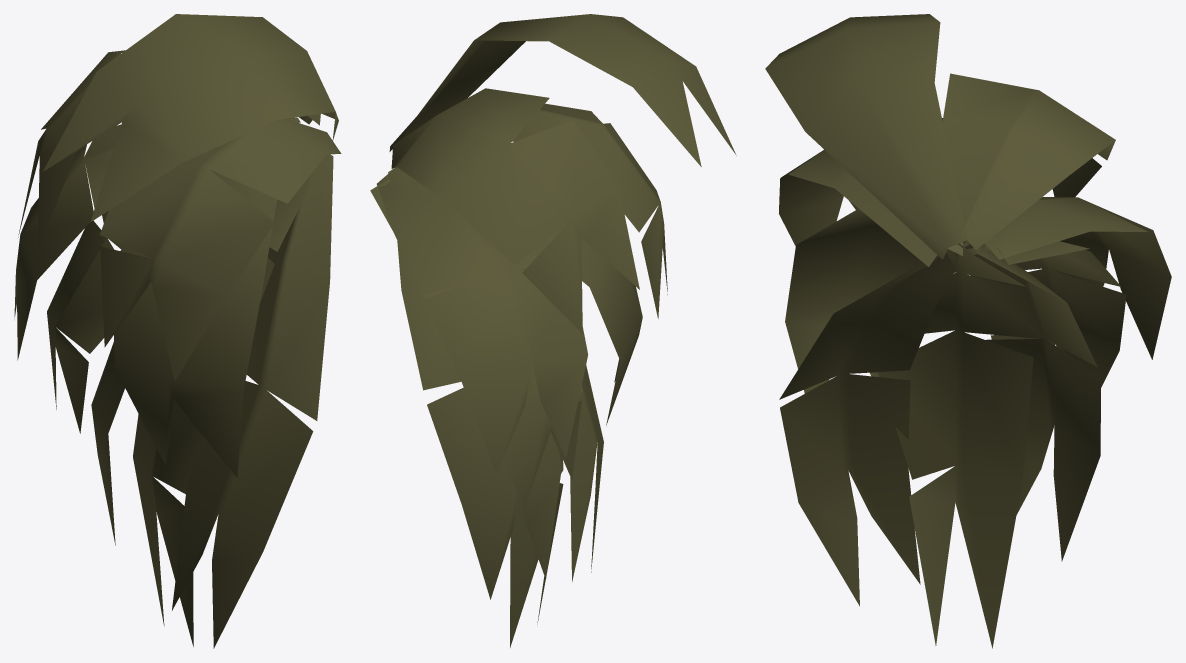
The model's file is foliage_broad_003.fbx.
3 views of the same model, side by side, from view 1: azimuth 30°, elevation 25°; view 2: azimuth 150°, elevation 25°; view 3: azimuth 270°, elevation 25° (orthographic). The views are drawn at different scales.
Visible parts, largest first — view 1: Foliage_broad_03; view 2: Foliage_broad_03; view 3: Foliage_broad_03.
Part boxes in pixels (x1,y1,x2,y2): Foliage_broad_03: (14, 14, 341, 648); Foliage_broad_03: (370, 14, 736, 647); Foliage_broad_03: (765, 14, 1171, 648).
Size of the model in its own units: 65.24 by 126 by 74.89.
